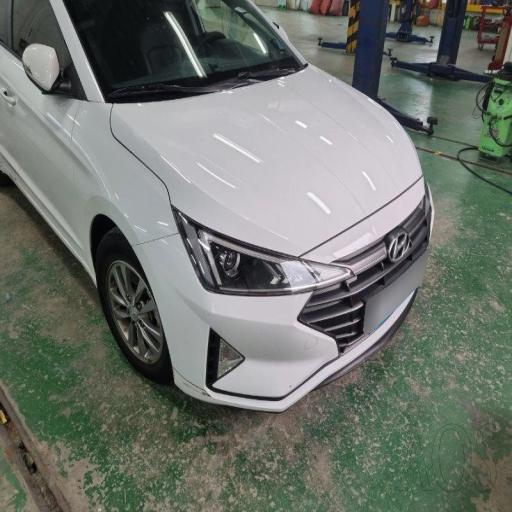scratch: (160, 335, 252, 435)
